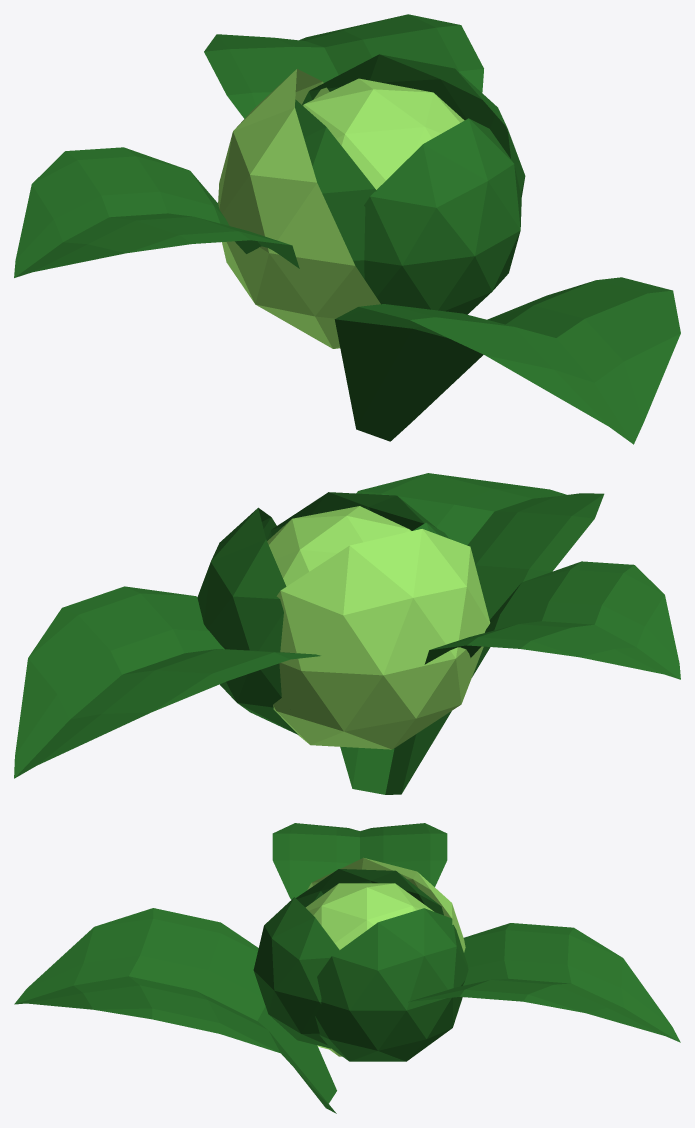
Rendered from Cabbage_1.fbx.
3 renders of one model, top to bottom at view 1: azimuth 30°, elevation 25°; view 2: azimuth 150°, elevation 25°; view 3: azimuth 270°, elevation 25°, orthographic. The views are drawn at different scales.
Parts seen in each view (by area): view 1: Plane.002, Icosphere.002, Icosphere.007, Plane, Plane.001, Icosphere.001, Icosphere, Icosphere.003; view 2: Icosphere.007, Plane.001, Plane.002, Plane, Icosphere, Icosphere.001, Icosphere.002; view 3: Plane.002, Icosphere, Plane.001, Plane, Icosphere.002, Icosphere.001, Icosphere.003, Icosphere.007.
Part boxes in pixels (<box>): Plane.002: <box>334,277,680,444</box>; Icosphere.002: <box>364,118,521,314</box>; Icosphere.007: <box>218,69,380,348</box>; Plane: <box>14,147,299,277</box>; Plane.001: <box>204,14,483,118</box>; Icosphere.001: <box>302,78,464,189</box>; Icosphere: <box>302,54,525,196</box>; Icosphere.003: <box>295,99,376,278</box>; Icosphere.007: <box>273,529,490,749</box>; Plane.001: <box>14,586,320,778</box>; Plane.002: <box>340,473,604,794</box>; Plane: <box>424,561,680,679</box>; Icosphere: <box>197,507,298,734</box>; Icosphere.001: <box>267,506,411,586</box>; Icosphere.002: <box>267,492,449,540</box>; Plane.002: <box>14,908,336,1113</box>; Icosphere: <box>315,908,468,1061</box>; Plane.001: <box>409,923,680,1042</box>; Plane: <box>272,823,447,899</box>; Icosphere.002: <box>253,897,339,1048</box>; Icosphere.001: <box>305,883,433,1056</box>; Icosphere.003: <box>296,869,443,915</box>; Icosphere.007: <box>307,857,465,1049</box>.
Bounding box in the file's own units: 368 × 205 × 546.
